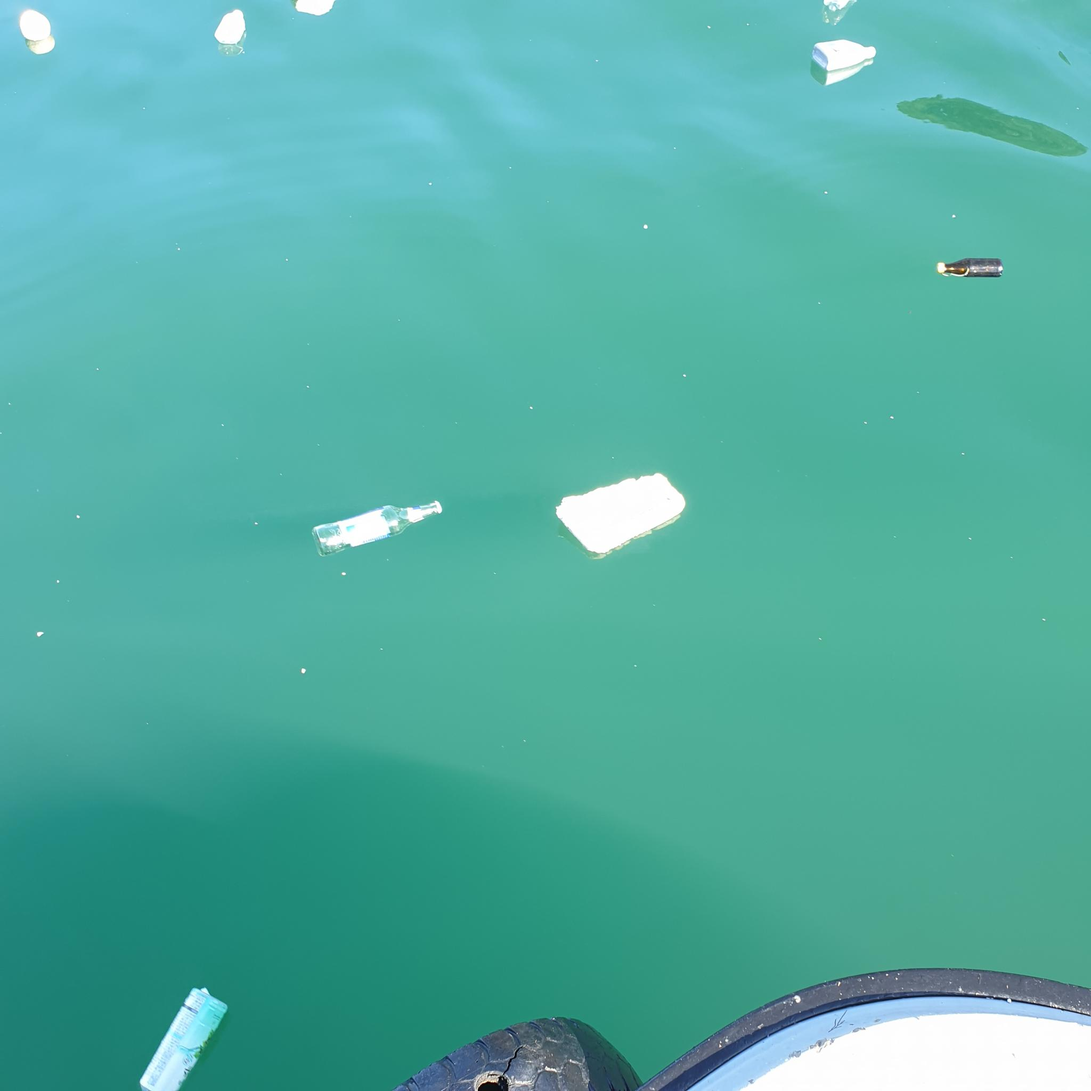sampah_terapung: (557, 473, 686, 554), (140, 988, 228, 1091), (312, 501, 443, 558), (812, 40, 876, 72), (937, 258, 1004, 278), (215, 10, 246, 45), (20, 11, 51, 42), (296, 1, 336, 16), (824, 1, 850, 11)
